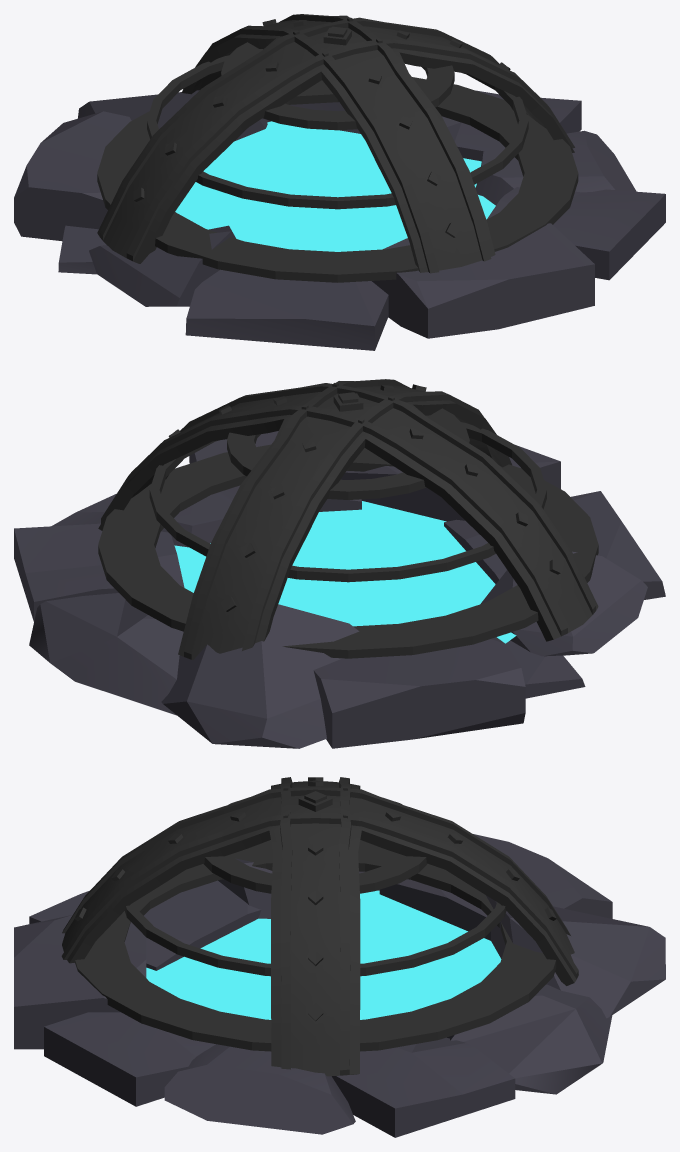
File: LibeeWell.fbx
3 renders of one model, top to bottom at view 1: azimuth 30°, elevation 25°; view 2: azimuth 150°, elevation 25°; view 3: azimuth 270°, elevation 25°, orthographic. The views are drawn at different scales.
Parts seen in each view (by area): view 1: Cage__001, Cage__004, Plane, Cube.002, StoneSlab__002.001, Cube.003, StoneSlab__003.001, Cage__003, Stone__003.001, Stone__002.002, Cage__002, StoneSlab__003.002 (+2 smaller); view 2: Cage__001, Cage__004, Plane, Cube.003, Stone__003.002, Stone__005.003, StoneSlab__003.002, Cage__003, Stone__003.001, StoneSlab__002.001, Cage__002, Cube.002 (+3 smaller); view 3: Cage__001, Cage__004, Plane, StoneSlab__003.002, Stone__002.002, Stone__005.003, StoneSlab__003.001, Stone__003.002, Cube.002, Cube.003, StoneSlab__002.001, Cage__003 (+2 smaller).
Part boxes in pixels (<box>): Cage__001: <box>97,14,574,273</box>; Cage__004: <box>97,77,578,282</box>; Plane: <box>175,121,495,251</box>; Cube.002: <box>372,223,594,338</box>; StoneSlab__002.001: <box>185,269,388,350</box>; Cube.003: <box>14,111,131,240</box>; StoneSlab__003.001: <box>487,187,665,280</box>; Cage__003: <box>147,55,528,209</box>; Stone__003.001: <box>89,225,235,306</box>; Stone__002.002: <box>475,130,636,205</box>; Cage__002: <box>221,42,454,130</box>; StoneSlab__003.002: <box>442,90,581,161</box>; Cage__001: <box>98,379,598,659</box>; Cage__004: <box>98,444,598,658</box>; Plane: <box>174,501,516,643</box>; Cube.003: <box>313,637,525,748</box>; Stone__003.002: <box>161,604,359,748</box>; Stone__005.003: <box>29,593,183,715</box>; StoneSlab__003.002: <box>14,523,184,621</box>; Cage__003: <box>149,422,546,582</box>; Stone__003.001: <box>480,551,647,656</box>; StoneSlab__002.001: <box>444,491,665,599</box>; Cage__002: <box>227,408,469,499</box>; Cube.002: <box>341,445,560,521</box>; Cage__001: <box>61,777,578,1076</box>; Cage__004: <box>75,840,556,1051</box>; Plane: <box>146,890,501,1019</box>; StoneSlab__003.002: <box>332,1037,515,1137</box>; Stone__002.002: <box>164,1044,355,1134</box>; Stone__005.003: <box>447,984,612,1094</box>; StoneSlab__003.001: <box>44,1012,215,1106</box>; Stone__003.002: <box>486,895,665,1018</box>; Cube.002: <box>14,915,146,1049</box>; Cube.003: <box>379,834,612,940</box>; StoneSlab__002.001: <box>29,880,261,970</box>; Cage__003: <box>125,902,506,976</box>.
Bounding box in the file's own units: 643 × 236 × 661.
